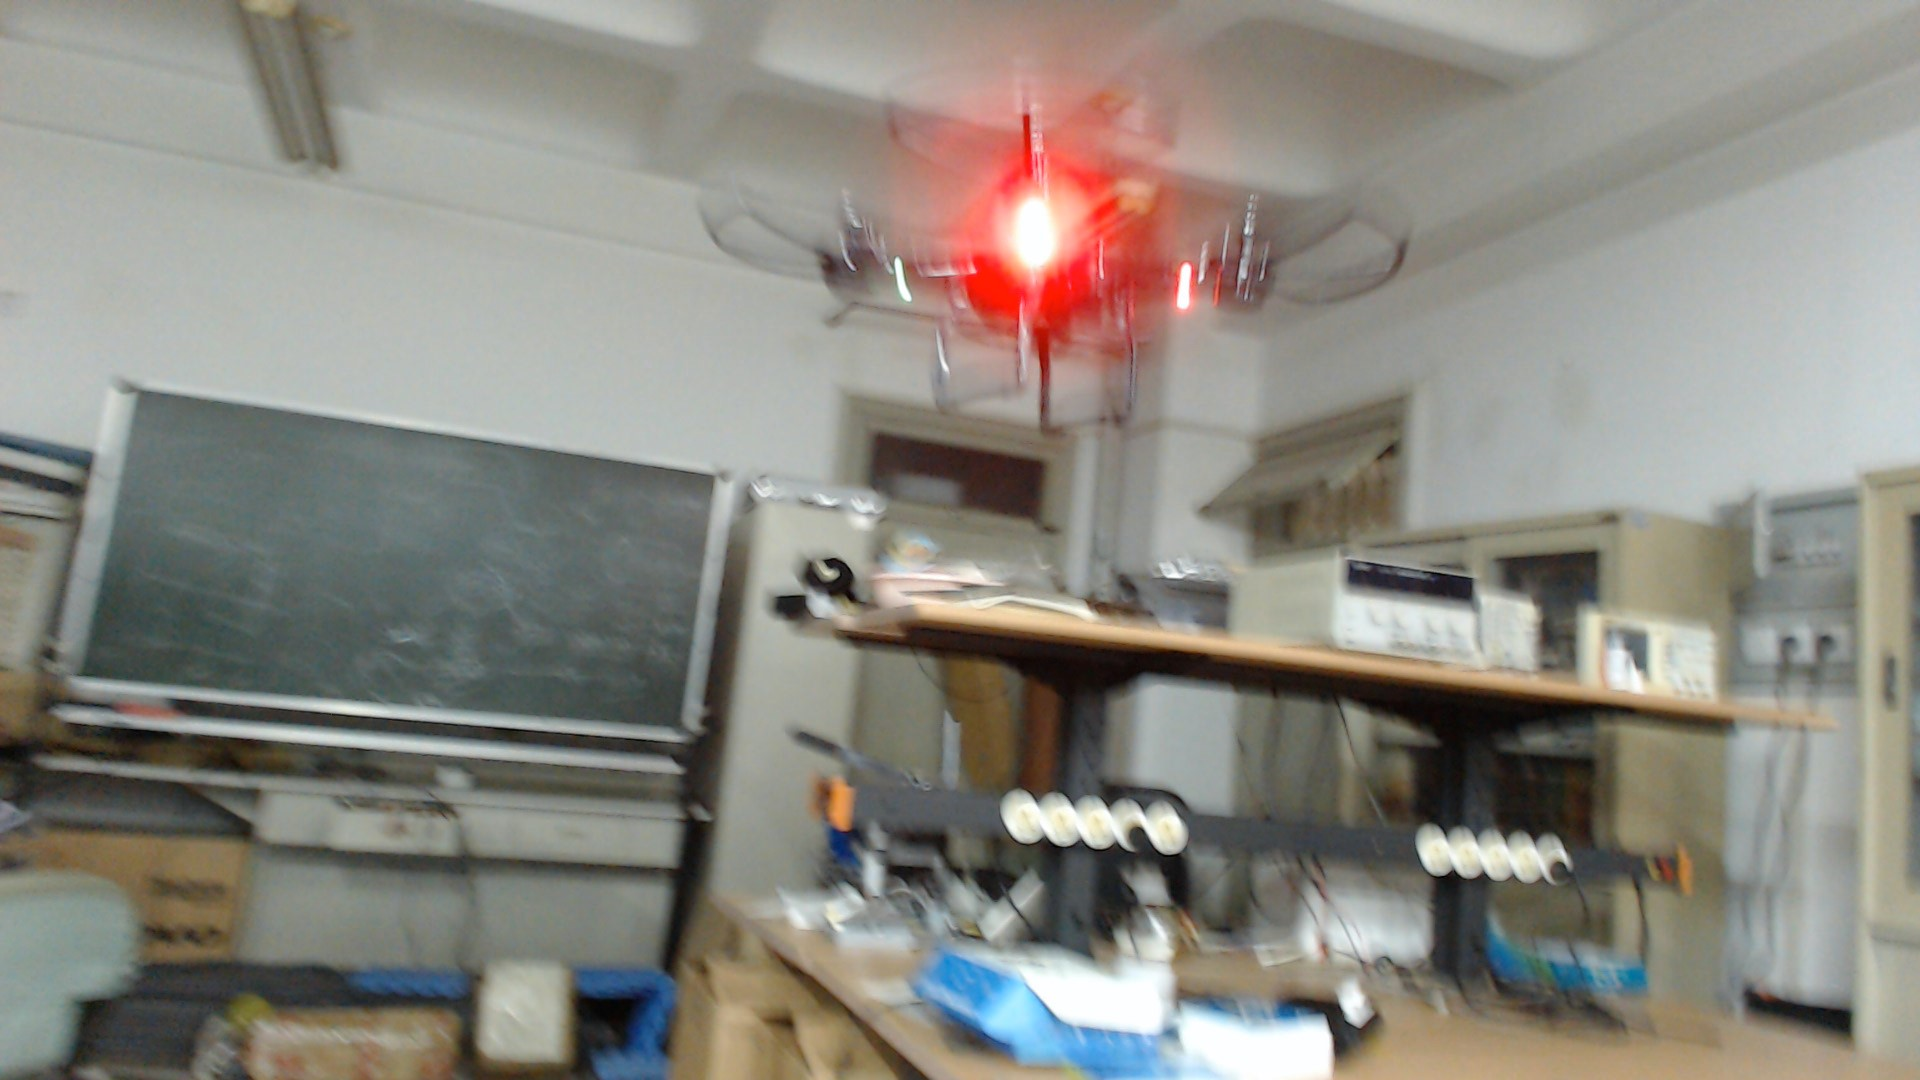test_drone: (686, 74, 1414, 438)
